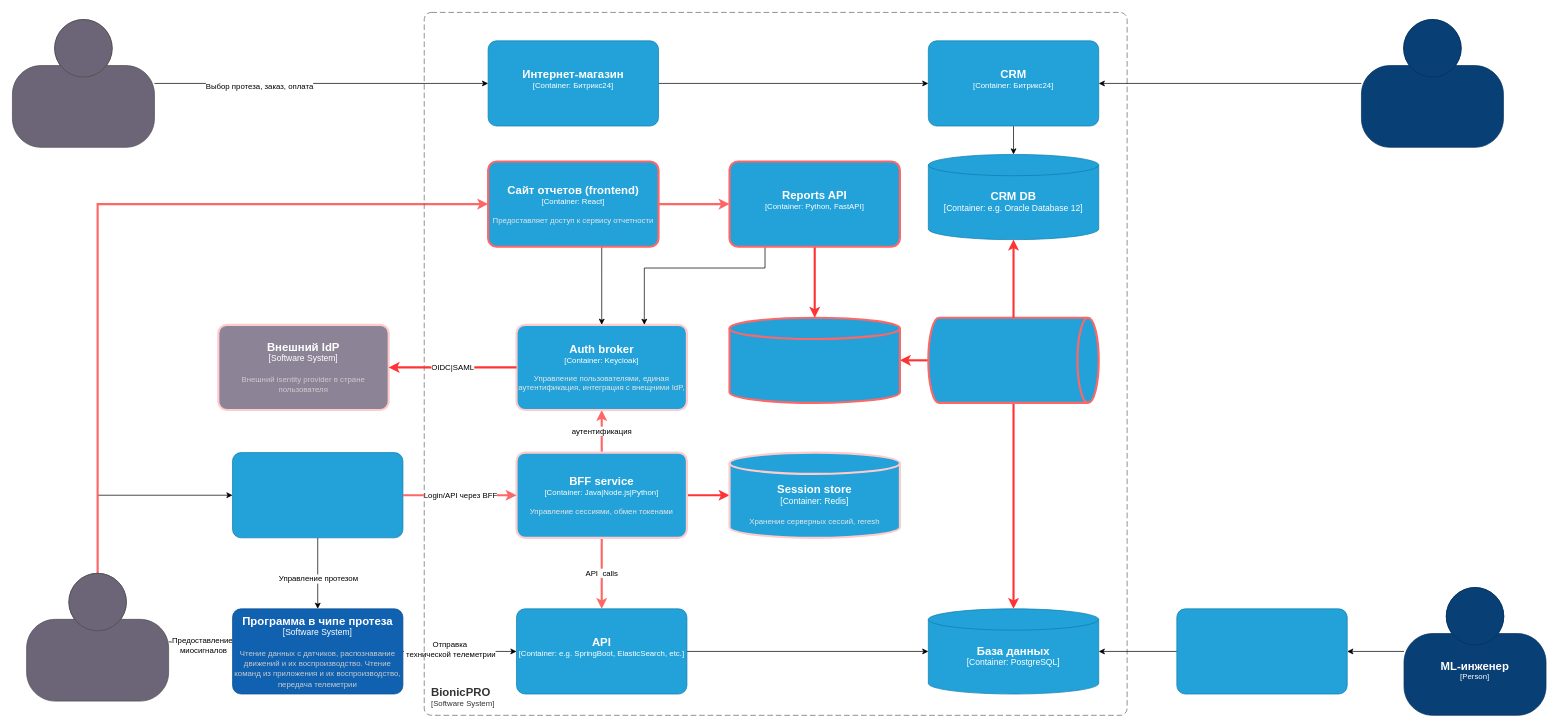
The diagram is 1558 pixels wide and 728 high, and some of its shapes have lost their labels. Here are the shapes that lost their labels. From the top down, the centre of each, then its label:
At point (83, 83): "Покупатель протеза [Person]".
At point (1432, 83): "Оператор производства [Person]".
At point (814, 360): "OLAP СУБД [Container: Clickhouse]".
At point (1013, 360): "ETL [Container: Apache Arflow] Сбор данных для аналитической базы".
At point (317, 495): "Приложение для донастройки протеза [Container: iOD, Android]".
At point (97, 637): "Пилот протеза [Person] С этого человека считываются данные".
At point (1261, 651): "cli tool [Container: e.g. SpringBoot, ElasticSearch, etc.]".
